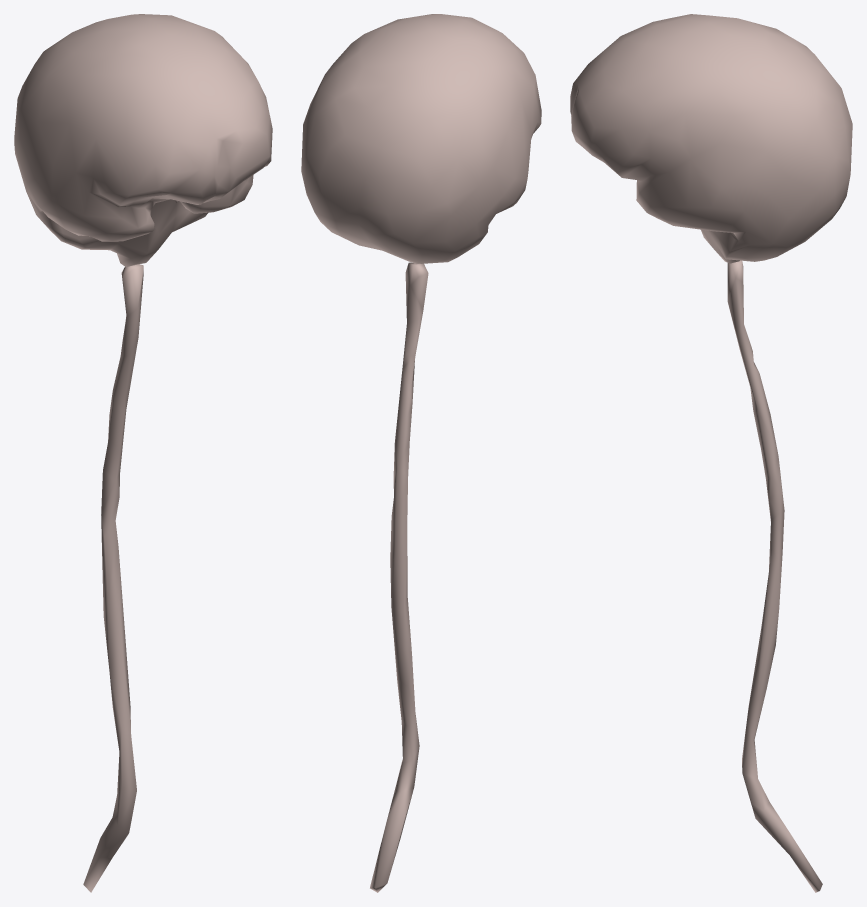
The model's file is pediatric_child_5y_male.nervous.LOD2.glb.
3 renders of one model, left to right at view 1: azimuth 30°, elevation 25°; view 2: azimuth 150°, elevation 25°; view 3: azimuth 270°, elevation 25°, orthographic. The views are drawn at different scales.
Parts seen in each view (by area): view 1: PEDIATRIC.CHILD_5Y.MALE.NERVOUS.BRAIN, PEDIATRIC.CHILD_5Y.MALE.NERVOUS.SPINAL_CORD; view 2: PEDIATRIC.CHILD_5Y.MALE.NERVOUS.BRAIN, PEDIATRIC.CHILD_5Y.MALE.NERVOUS.SPINAL_CORD; view 3: PEDIATRIC.CHILD_5Y.MALE.NERVOUS.BRAIN, PEDIATRIC.CHILD_5Y.MALE.NERVOUS.SPINAL_CORD.
Part boxes in pixels (x1,y1,x2,y2): PEDIATRIC.CHILD_5Y.MALE.NERVOUS.BRAIN: (14,14,272,267); PEDIATRIC.CHILD_5Y.MALE.NERVOUS.SPINAL_CORD: (83,264,143,892); PEDIATRIC.CHILD_5Y.MALE.NERVOUS.BRAIN: (301,14,541,264); PEDIATRIC.CHILD_5Y.MALE.NERVOUS.SPINAL_CORD: (370,262,428,892); PEDIATRIC.CHILD_5Y.MALE.NERVOUS.BRAIN: (570,14,852,263); PEDIATRIC.CHILD_5Y.MALE.NERVOUS.SPINAL_CORD: (727,260,822,892).
Size of the model in its own units: 0.1289 by 0.5311 by 0.1567.
